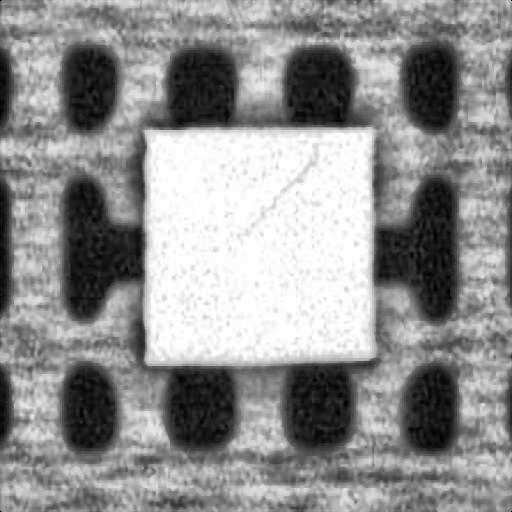DIE_CRACK: (245, 151, 317, 223)
